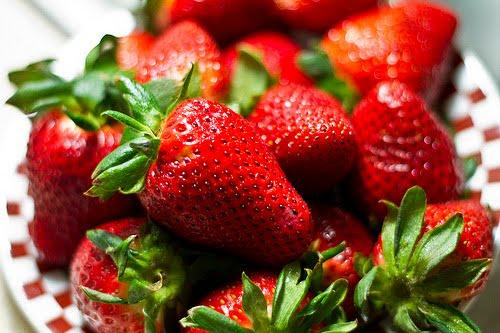strawberry: (96, 86, 316, 260), (23, 100, 128, 254), (347, 77, 471, 206)
